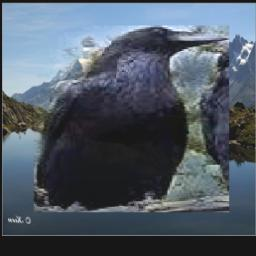Crow: (33, 26, 228, 213)
